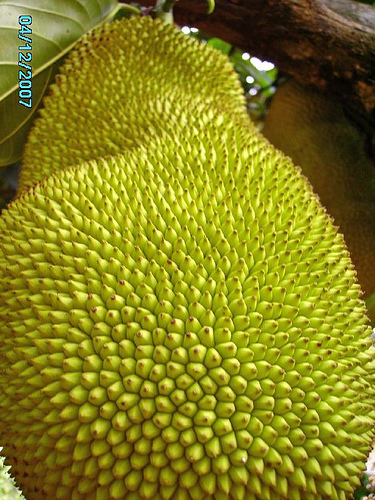jackfruit: (0, 16, 373, 498)
